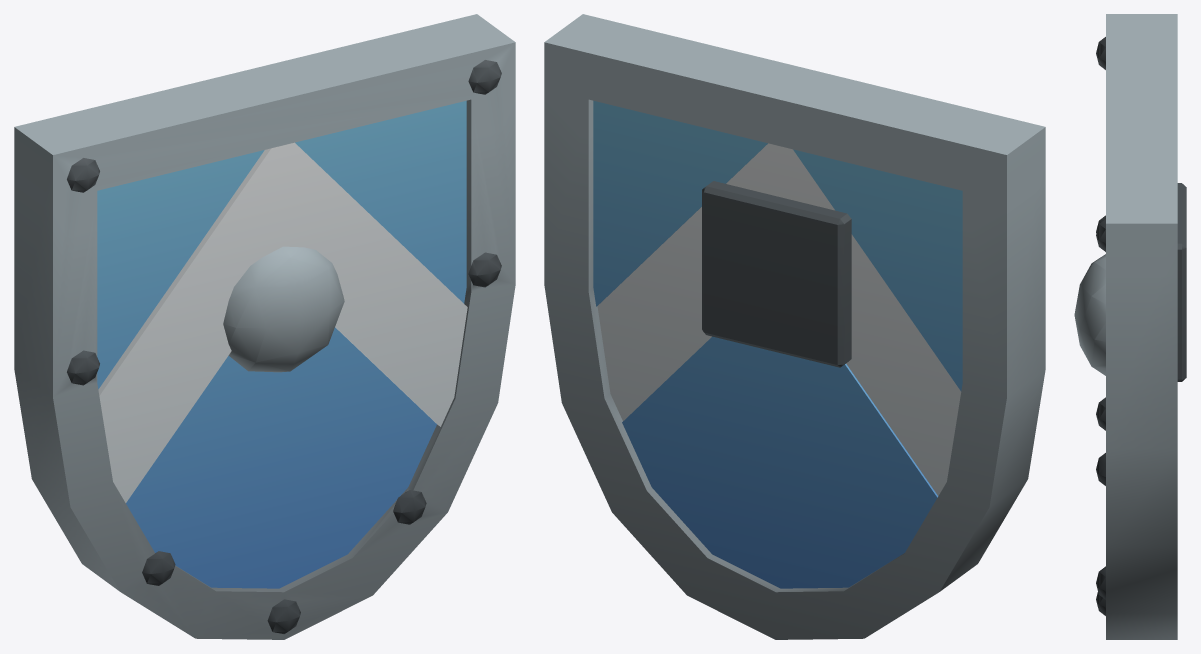
Rendered from shield_chevron.glb.
The picture shows the model from 3 angles, left to right: view 1: azimuth 30°, elevation 25°; view 2: azimuth 150°, elevation 25°; view 3: azimuth 270°, elevation 25°; orthographic projection. The views are drawn at different scales.
Visible parts, largest first — view 1: shield_chevron; view 2: shield_chevron; view 3: shield_chevron.
Boxes of the visible parts, bbox=[...] form: shield_chevron: bbox=[14, 14, 515, 639]; shield_chevron: bbox=[544, 14, 1045, 639]; shield_chevron: bbox=[1074, 14, 1186, 639].
Bounding box in the file's own units: 1.11 × 1.24 × 0.25.
1 material, 1 textured.
